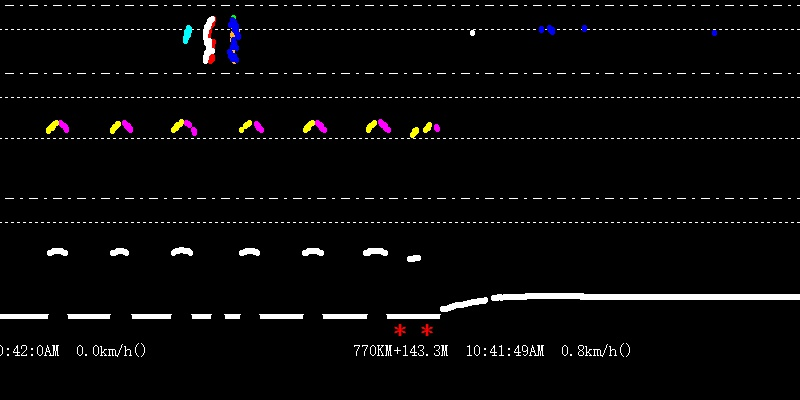J: (200, 3, 241, 65)
face_1: (182, 24, 193, 44)
star: (419, 324, 438, 339), (392, 321, 406, 339)
y_p: (39, 106, 394, 262)
